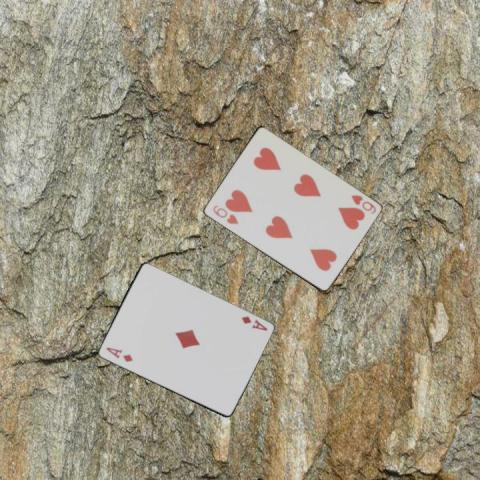6h: (210, 202, 240, 226), (348, 192, 377, 215)
Ad: (103, 344, 134, 363), (238, 313, 269, 332)
